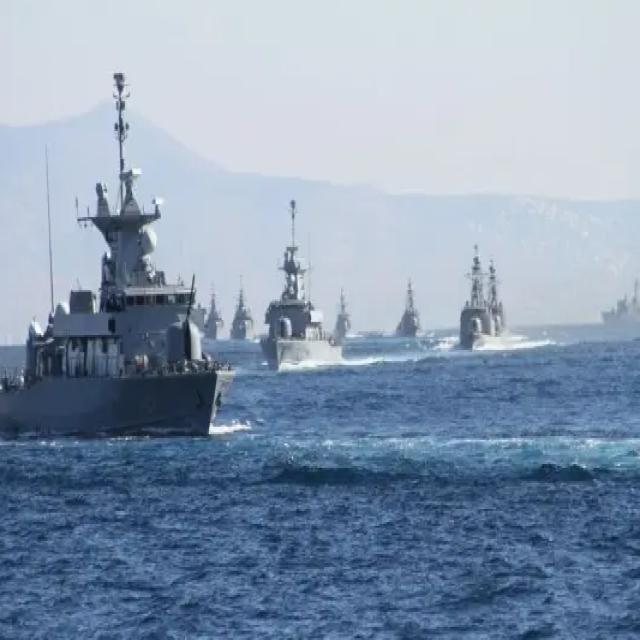navalvessels: (5, 72, 234, 448), (254, 189, 349, 371), (457, 248, 496, 342), (384, 261, 424, 339), (318, 284, 360, 355)
